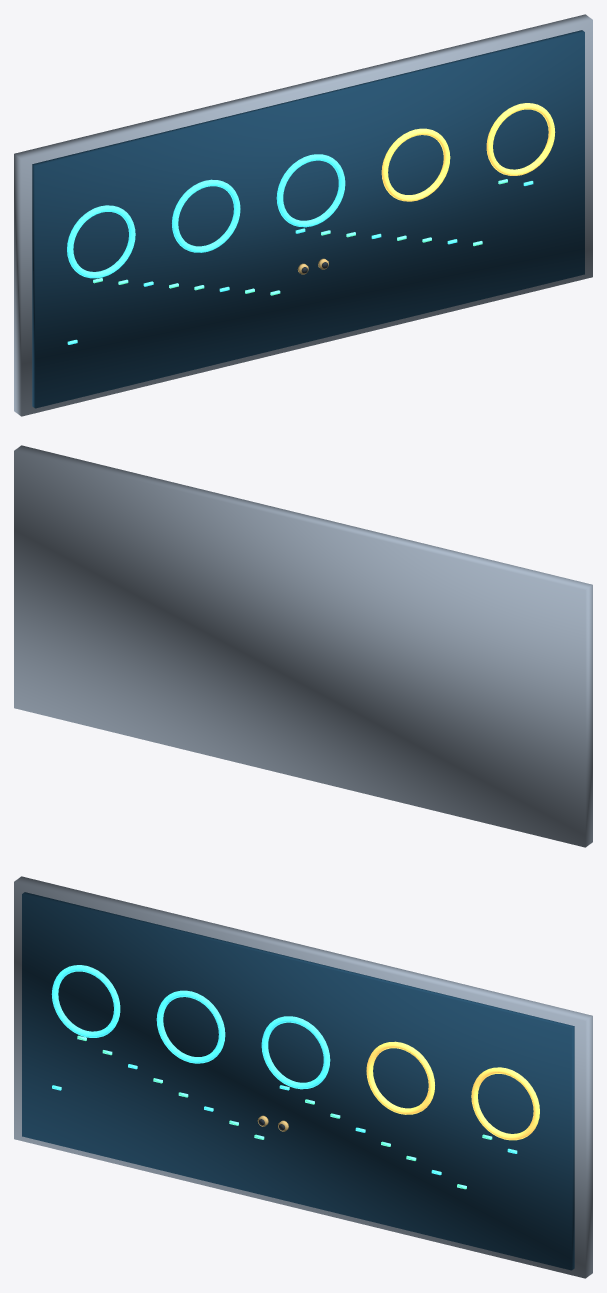
File: 90_L90_MissionPropulsionSCADA.fbx
The picture shows the model from 3 angles, top to bottom: view 1: azimuth 30°, elevation 25°; view 2: azimuth 150°, elevation 25°; view 3: azimuth 330°, elevation 25°; orthographic projection.
Parts seen in each view (by area): view 1: L90_MissionPropulsionSCADA, L90_MissionPropulsionSCADA_Part_0002, L90_MissionPropulsionSCADA_Part_0003; view 2: L90_MissionPropulsionSCADA; view 3: L90_MissionPropulsionSCADA, L90_MissionPropulsionSCADA_Part_0002, L90_MissionPropulsionSCADA_Part_0003.
Boxes of the visible parts, <box> form: L90_MissionPropulsionSCADA: <box>14,14,592,416</box>; L90_MissionPropulsionSCADA_Part_0002: <box>67,154,345,278</box>; L90_MissionPropulsionSCADA_Part_0003: <box>381,103,555,201</box>; L90_MissionPropulsionSCADA: <box>14,445,592,847</box>; L90_MissionPropulsionSCADA: <box>14,876,592,1278</box>; L90_MissionPropulsionSCADA_Part_0002: <box>51,965,330,1089</box>; L90_MissionPropulsionSCADA_Part_0003: <box>366,1041,539,1140</box>.
Bounding box in the file's own units: 7.9 × 3.4 × 0.612.
